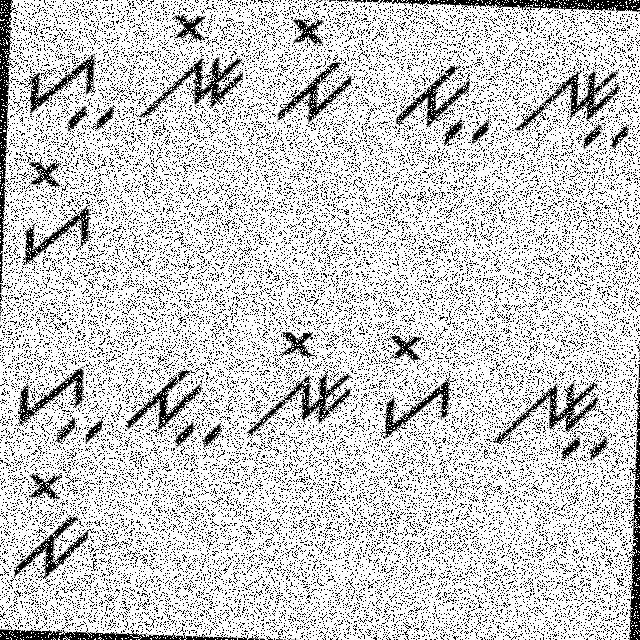hah: (8, 350, 110, 456), (18, 36, 120, 140)
ho: (374, 326, 462, 448), (17, 154, 98, 272)
mbah: (120, 353, 228, 462), (386, 51, 496, 153)
mbo: (268, 10, 359, 126), (10, 464, 95, 586)
ndah: (487, 364, 617, 466), (513, 54, 634, 154)
ndo: (241, 326, 355, 449), (135, 7, 248, 128)
